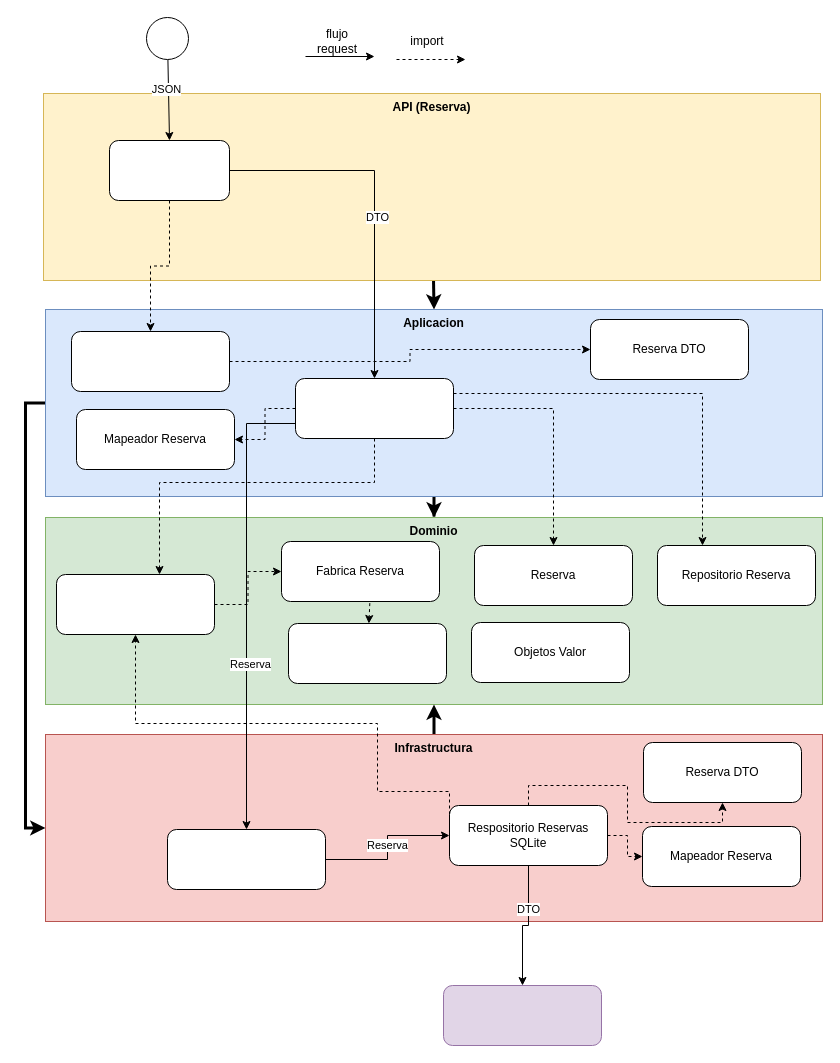
The diagram is 840 pixels wide and 1063 high, and some of its shapes have lost their labels. Here are the shapes that lost their labels. From the top down, the centre of each, then its label:
At pixel 169 170: "Reservar".
At pixel 150 361: "MapeadorReservaDTOJson".
At pixel 374 408: "Servicio Reserva Crear Reserva".
At pixel 135 604: "Fabrica Vuelos".
At pixel 367 653: "Reglas".
At pixel 246 859: "Fabrica Repositorio".
At pixel 522 1015: "SQLite".
